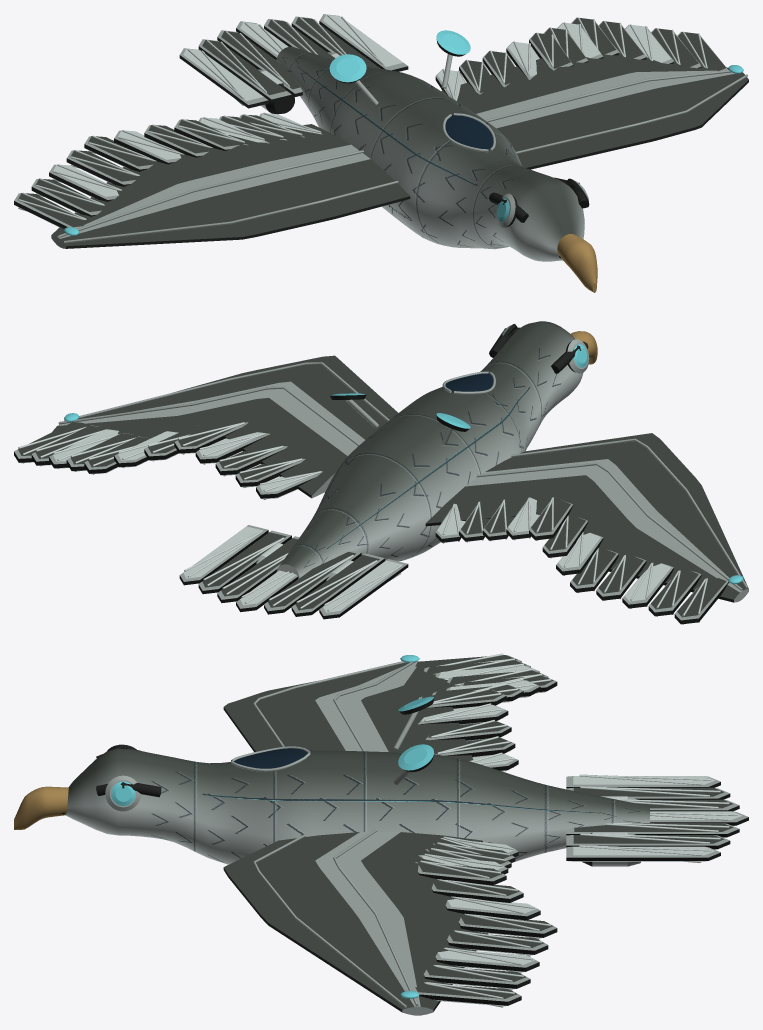
Rendered from osprey.glb.
3 renders of one model, top to bottom at view 1: azimuth 30°, elevation 25°; view 2: azimuth 150°, elevation 25°; view 3: azimuth 270°, elevation 25°, orthographic. The views are drawn at different scales.
Parts seen in each view (by area): view 1: osprey_hull; view 2: osprey_hull; view 3: osprey_hull.
Boxes of the visible parts, box(x1,y1,x2,y2) form: osprey_hull: box(14, 14, 748, 292); osprey_hull: box(14, 321, 748, 624); osprey_hull: box(14, 653, 748, 1015).
Bounding box in the file's own units: 68 × 14.37 × 60.96.
1 material, 1 textured.
